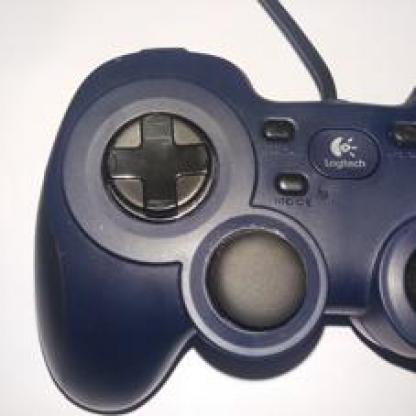gamepad: (42, 44, 415, 398)
